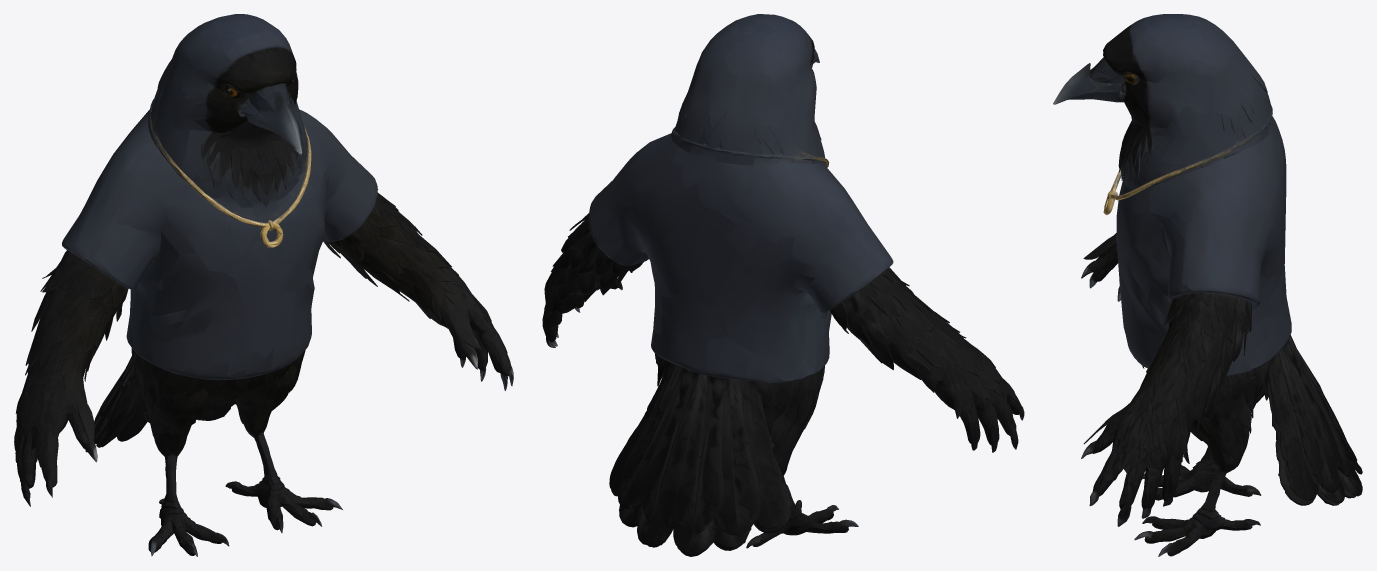
File: kul-cloth.glb
The picture shows the model from 3 angles, left to right: view 1: azimuth 30°, elevation 25°; view 2: azimuth 150°, elevation 25°; view 3: azimuth 270°, elevation 25°; orthographic projection. The views are drawn at different scales.
Bounding box in the file's own units: 1.89 × 1.9 × 1.08.
Materials: 1 (1 with a texture image).
